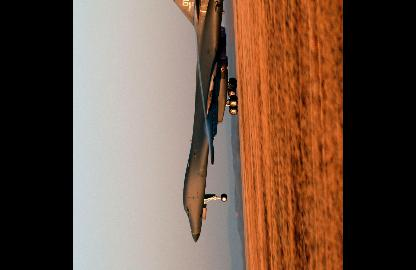AV8B: (168, 0, 238, 241)
